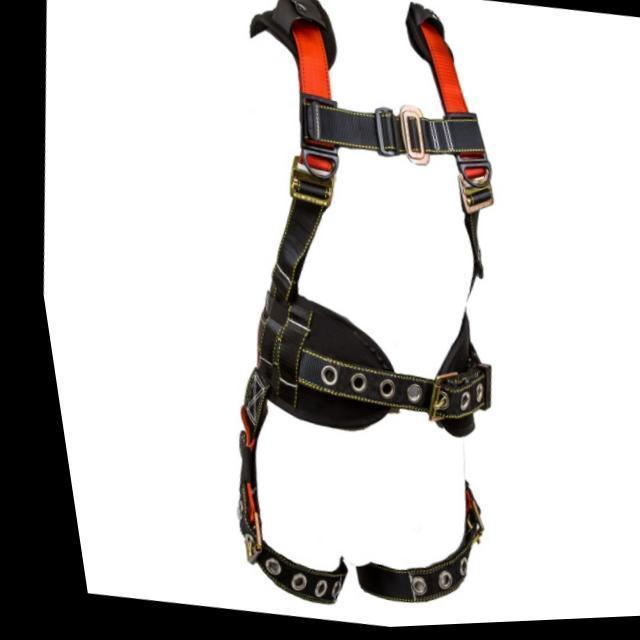Harness: (240, 0, 494, 604), (357, 484, 484, 604)
